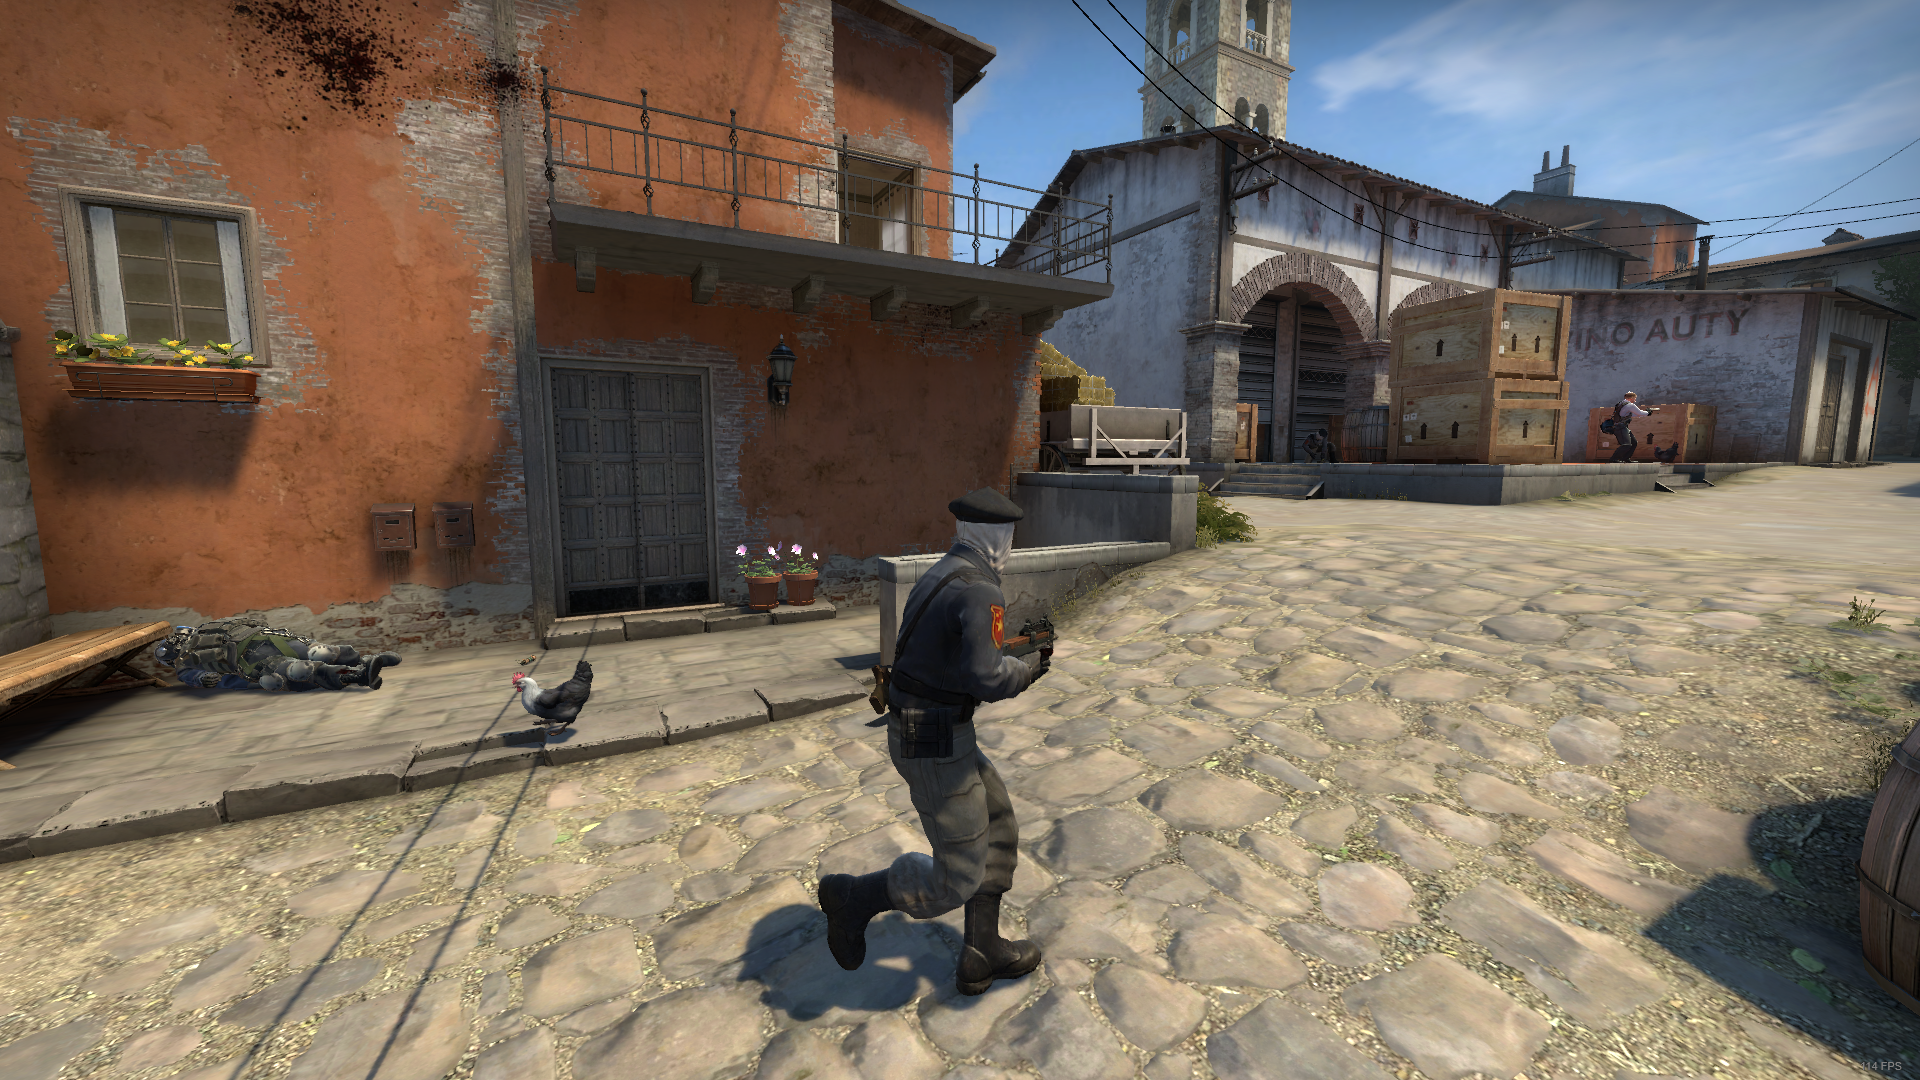t: (806, 477, 1084, 1023)
